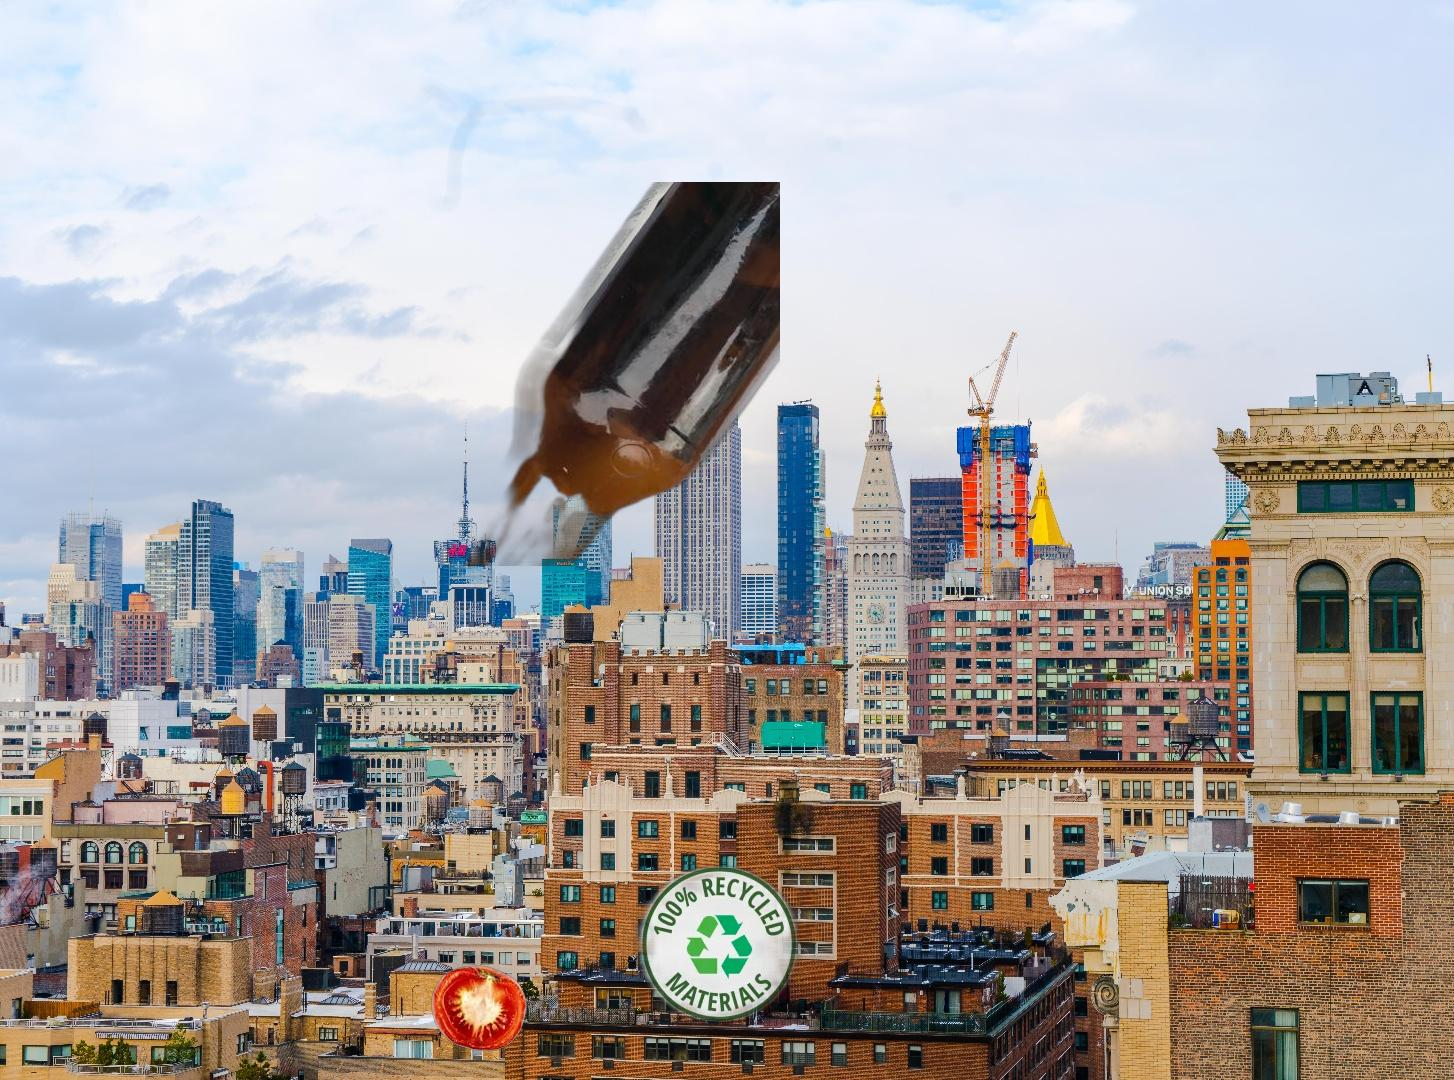biological: (429, 963, 530, 1054)
glass: (455, 182, 780, 566)
trashbox-cardboard: (618, 835, 1454, 1080)
